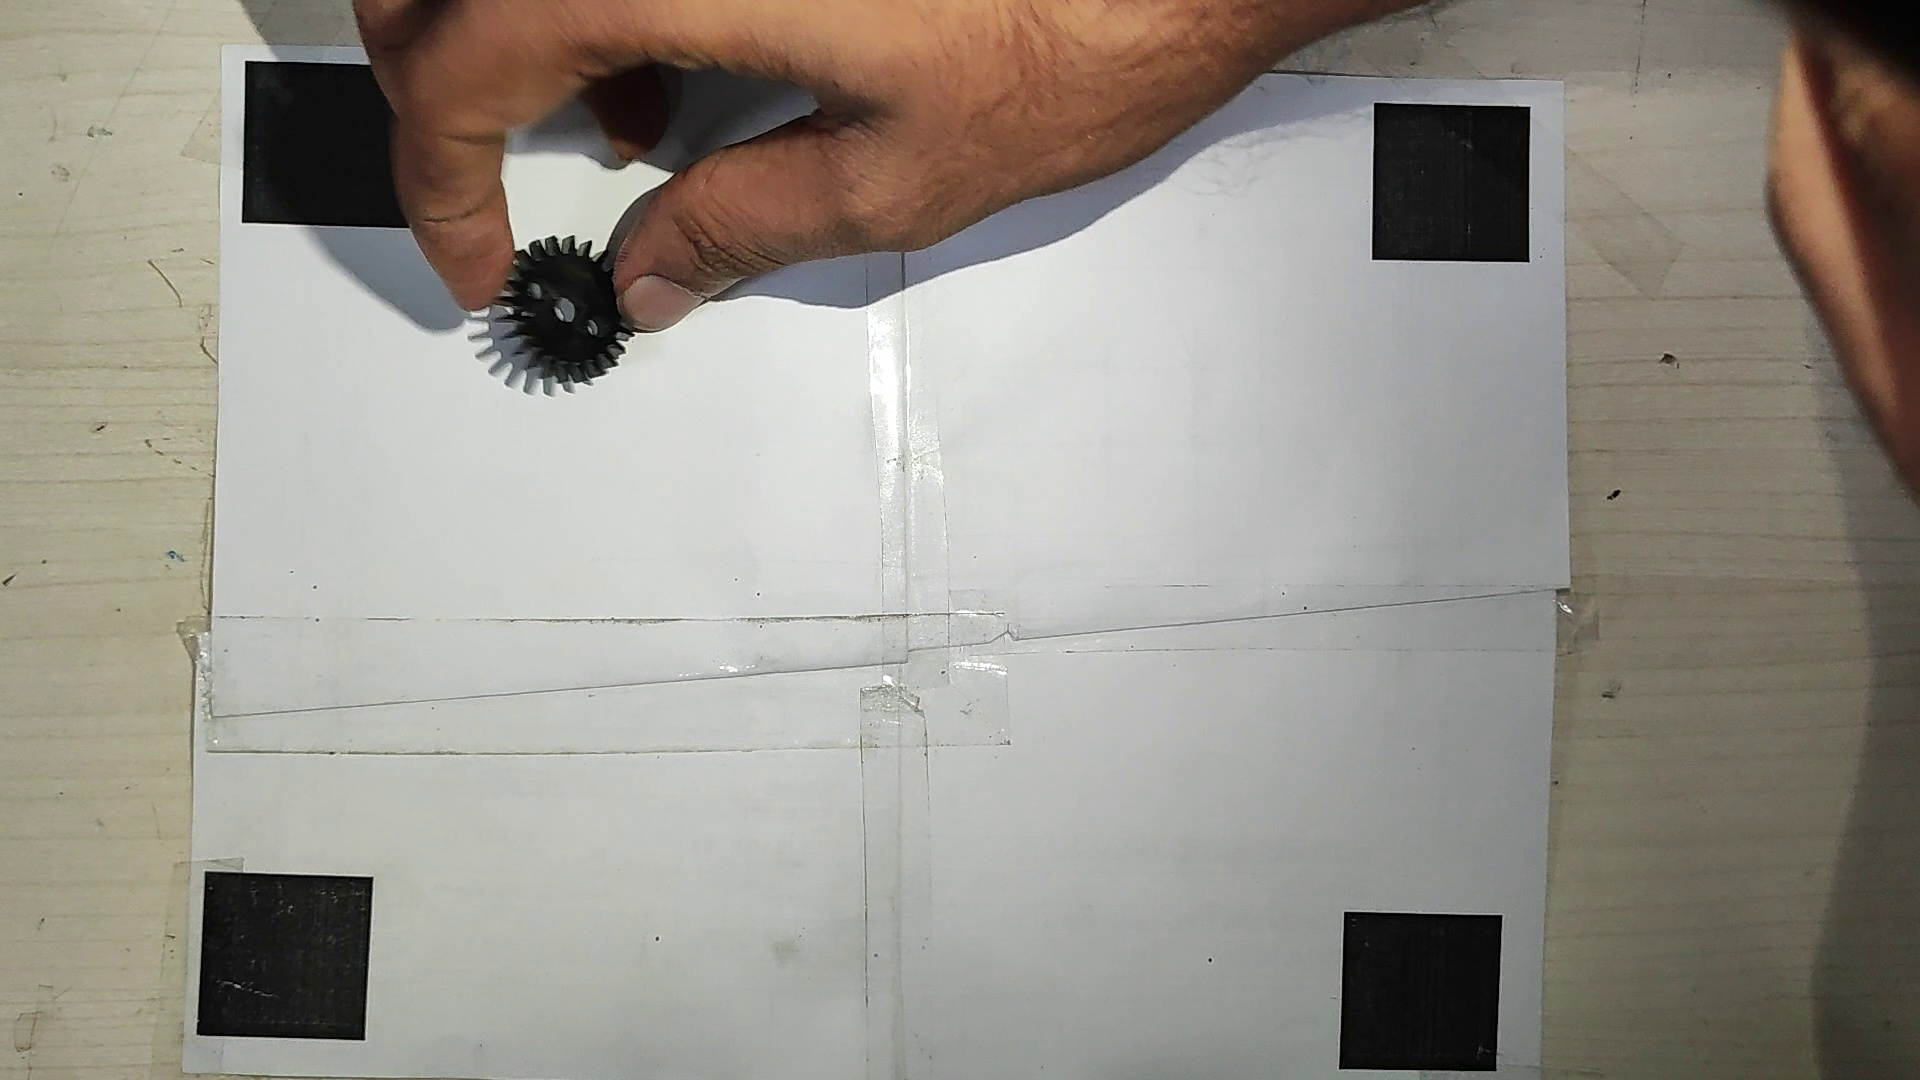Gear: (493, 228, 629, 389)
